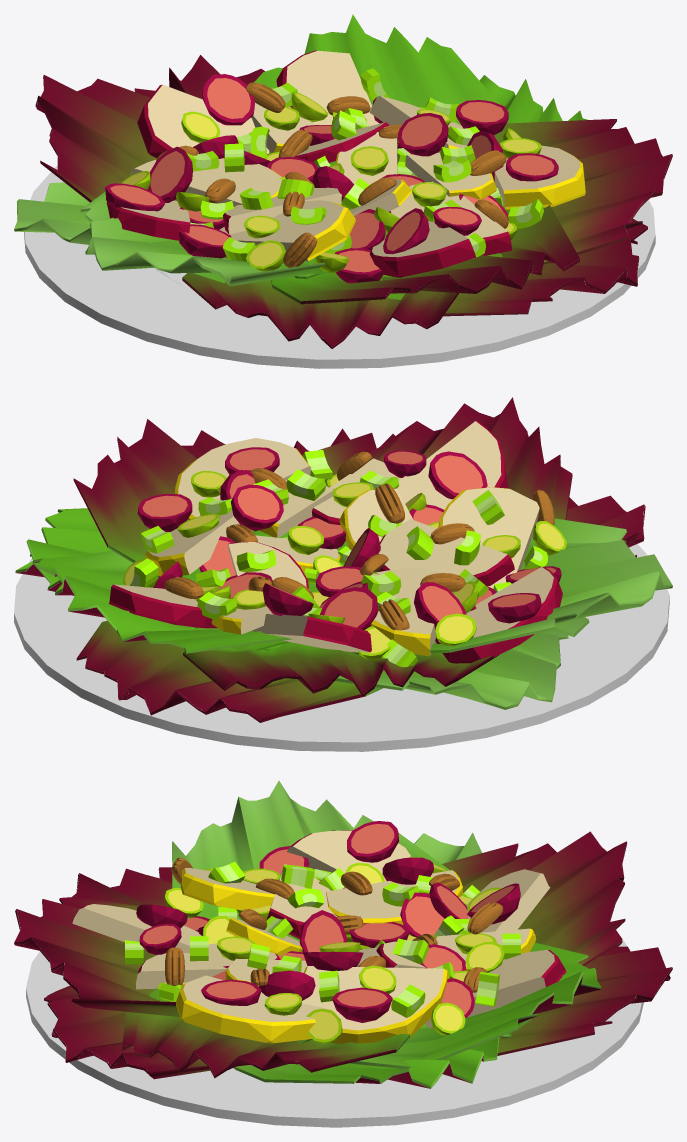
The model's file is Ensalada Waldorf.fbx.
The picture shows the model from 3 angles, top to bottom: view 1: azimuth 30°, elevation 25°; view 2: azimuth 150°, elevation 25°; view 3: azimuth 270°, elevation 25°; orthographic projection. The views are drawn at different scales.
Parts seen in each view (by area): view 1: LechugaPlato, PlatoDeServicio, UvaRojaPlato, Manzana(R)Plato, Manzana(A)Plato, ApioPlato, UvaVerdePlato, NuezPlato; view 2: LechugaPlato, PlatoDeServicio, UvaRojaPlato, Manzana(R)Plato, Manzana(A)Plato, ApioPlato, UvaVerdePlato, NuezPlato; view 3: LechugaPlato, PlatoDeServicio, UvaRojaPlato, Manzana(A)Plato, Manzana(R)Plato, ApioPlato, UvaVerdePlato, NuezPlato.
Part boxes in pixels (<box>): LechugaPlato: <box>14,14,672,348</box>; PlatoDeServicio: <box>24,165,655,368</box>; UvaRojaPlato: <box>105,74,558,283</box>; Manzana(R)Plato: <box>106,50,511,277</box>; Manzana(A)Plato: <box>130,96,585,261</box>; ApioPlato: <box>130,68,543,261</box>; UvaVerdePlato: <box>121,91,541,272</box>; NuezPlato: <box>156,82,508,267</box>; LechugaPlato: <box>15,397,672,722</box>; PlatoDeServicio: <box>14,544,669,751</box>; UvaRojaPlato: <box>137,447,561,629</box>; Manzana(R)Plato: <box>108,421,562,663</box>; Manzana(A)Plato: <box>145,438,539,656</box>; ApioPlato: <box>130,450,547,667</box>; UvaVerdePlato: <box>122,471,566,659</box>; NuezPlato: <box>164,451,554,630</box>; LechugaPlato: <box>14,780,672,1088</box>; PlatoDeServicio: <box>26,939,643,1127</box>; UvaRojaPlato: <box>136,821,520,1022</box>; Manzana(A)Plato: <box>176,868,536,1043</box>; Manzana(R)Plato: <box>72,830,566,1027</box>; ApioPlato: <box>125,861,520,1017</box>; UvaVerdePlato: <box>158,856,504,1043</box>; NuezPlato: <box>165,857,503,992</box>.
Bounding box in the file's own units: 26.79 × 5.16 × 28.29.
11 materials, 1 textured.
